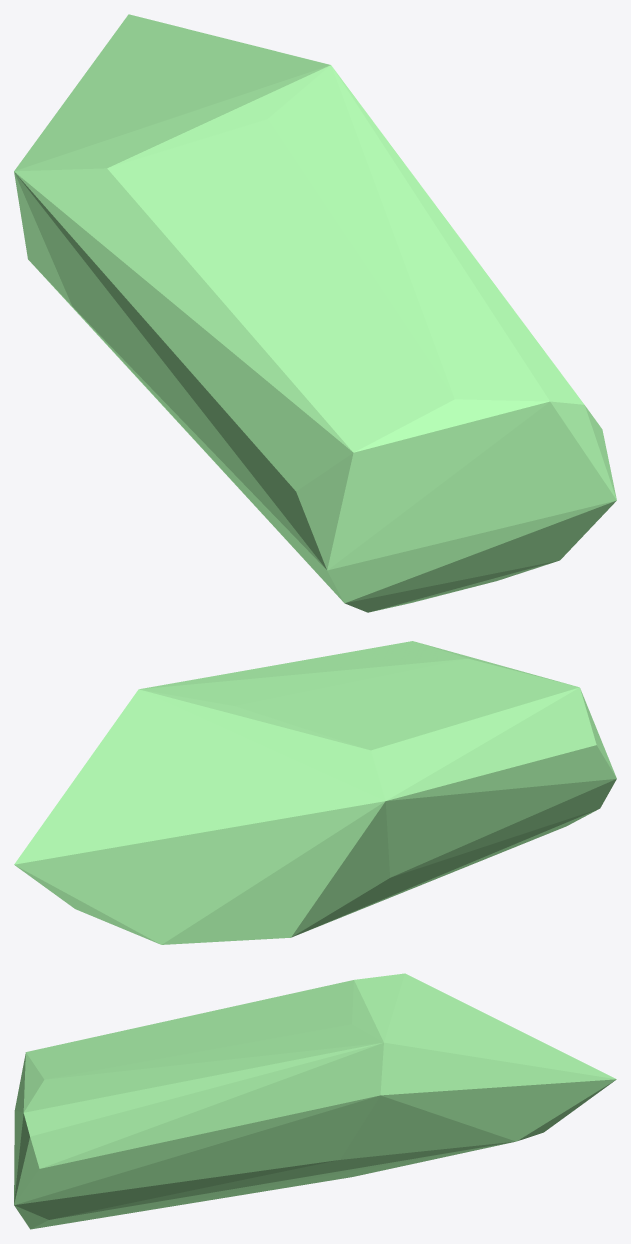
The model's file is dualpanda_Panda_rightArm_link5_respondable_coll_6.dae.
3 renders of one model, top to bottom at view 1: azimuth 30°, elevation 25°; view 2: azimuth 150°, elevation 25°; view 3: azimuth 270°, elevation 25°, orthographic. The views are drawn at different scales.
Parts seen in each view (by area): view 1: node; view 2: node; view 3: node.
Boxes of the visible parts, <box> form: node: <box>14,14,616,612</box>; node: <box>14,641,616,944</box>; node: <box>14,973,616,1229</box>.
Bounding box in the file's own units: 0.0678 × 0.0612 × 0.1617.
